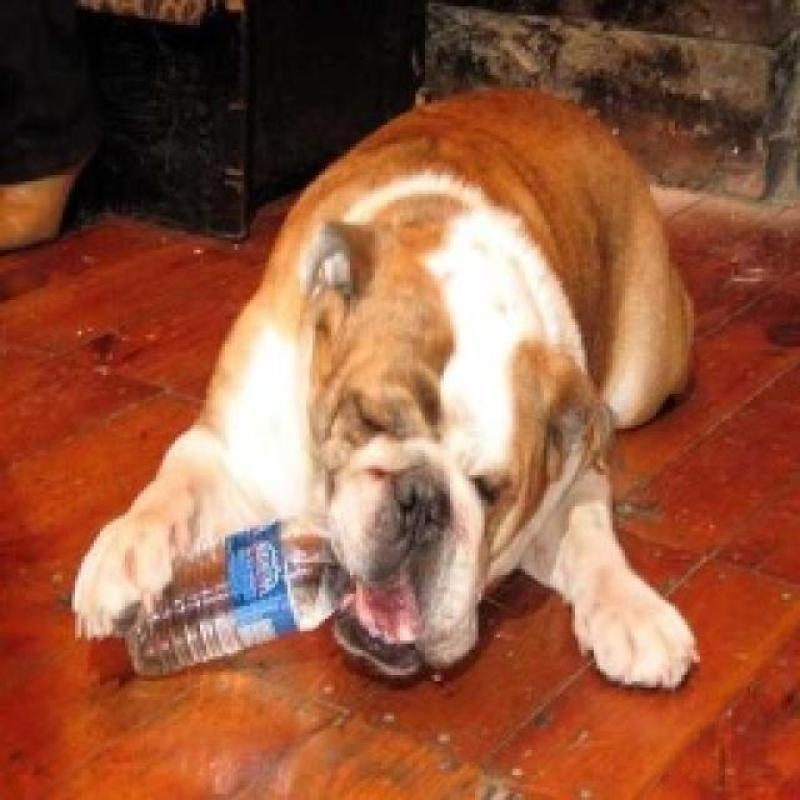botella: (124, 514, 354, 680)
